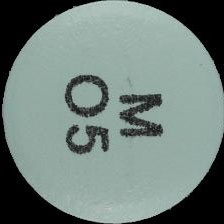0615-7519: (0, 0, 224, 224)
